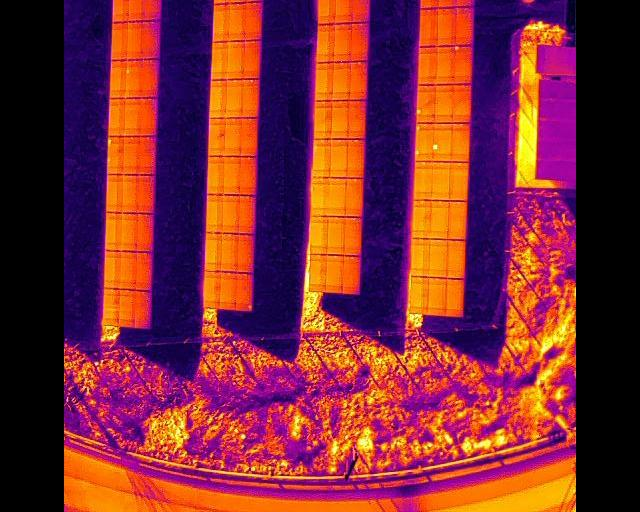Cell: (417, 84, 436, 122), (432, 122, 451, 160), (454, 45, 472, 83), (124, 59, 140, 98), (237, 272, 253, 310), (113, 0, 129, 21)
Cell-Multi: (415, 123, 433, 161), (106, 135, 122, 174)
No-Anomaly: (141, 20, 161, 58), (411, 237, 430, 276), (343, 254, 362, 293), (103, 250, 122, 289), (413, 199, 432, 238), (414, 160, 433, 199), (432, 161, 451, 200), (449, 161, 468, 200), (138, 96, 157, 135), (122, 136, 141, 174), (446, 278, 465, 316), (418, 46, 437, 84), (435, 83, 454, 121), (135, 213, 154, 251), (138, 135, 156, 175), (312, 176, 330, 215), (316, 61, 334, 100), (105, 173, 123, 212), (330, 138, 348, 177), (332, 61, 350, 100), (345, 177, 363, 216), (347, 138, 365, 177), (348, 99, 366, 138), (437, 6, 455, 45), (453, 83, 471, 122), (452, 121, 470, 160), (110, 21, 128, 60), (225, 78, 243, 117), (140, 58, 158, 97), (104, 212, 122, 250), (316, 23, 334, 61), (313, 138, 331, 176), (314, 100, 332, 138), (328, 178, 346, 216), (419, 7, 437, 45), (431, 200, 449, 238), (429, 238, 447, 276), (455, 7, 473, 45), (448, 201, 466, 239), (447, 240, 465, 278), (209, 79, 227, 117), (206, 194, 224, 232), (204, 232, 222, 270), (136, 174, 154, 212), (134, 290, 152, 328), (135, 250, 152, 290), (309, 253, 327, 290), (410, 276, 428, 313), (428, 278, 446, 315), (102, 288, 120, 325), (122, 173, 139, 212), (242, 78, 259, 117), (344, 216, 361, 255), (350, 60, 367, 99), (437, 45, 454, 84), (109, 59, 126, 98), (208, 116, 225, 155), (212, 2, 229, 41), (224, 116, 241, 155), (222, 193, 239, 232), (221, 232, 238, 271), (241, 116, 258, 155), (228, 2, 245, 41), (126, 20, 143, 59), (244, 1, 261, 39), (244, 40, 261, 78), (310, 215, 327, 253), (327, 216, 344, 254), (334, 23, 351, 61), (332, 100, 349, 138), (351, 23, 368, 61), (207, 155, 224, 193), (211, 40, 228, 78), (224, 155, 241, 193), (227, 40, 244, 78), (240, 156, 257, 194), (120, 213, 137, 250), (326, 255, 343, 292), (220, 271, 237, 308), (120, 250, 136, 289), (239, 194, 255, 233), (238, 233, 254, 272), (204, 271, 221, 307), (120, 288, 136, 326), (123, 98, 139, 136), (108, 99, 124, 136), (318, 0, 336, 24), (335, 0, 353, 23), (353, 0, 370, 22), (143, 0, 160, 20), (129, 0, 145, 20)
